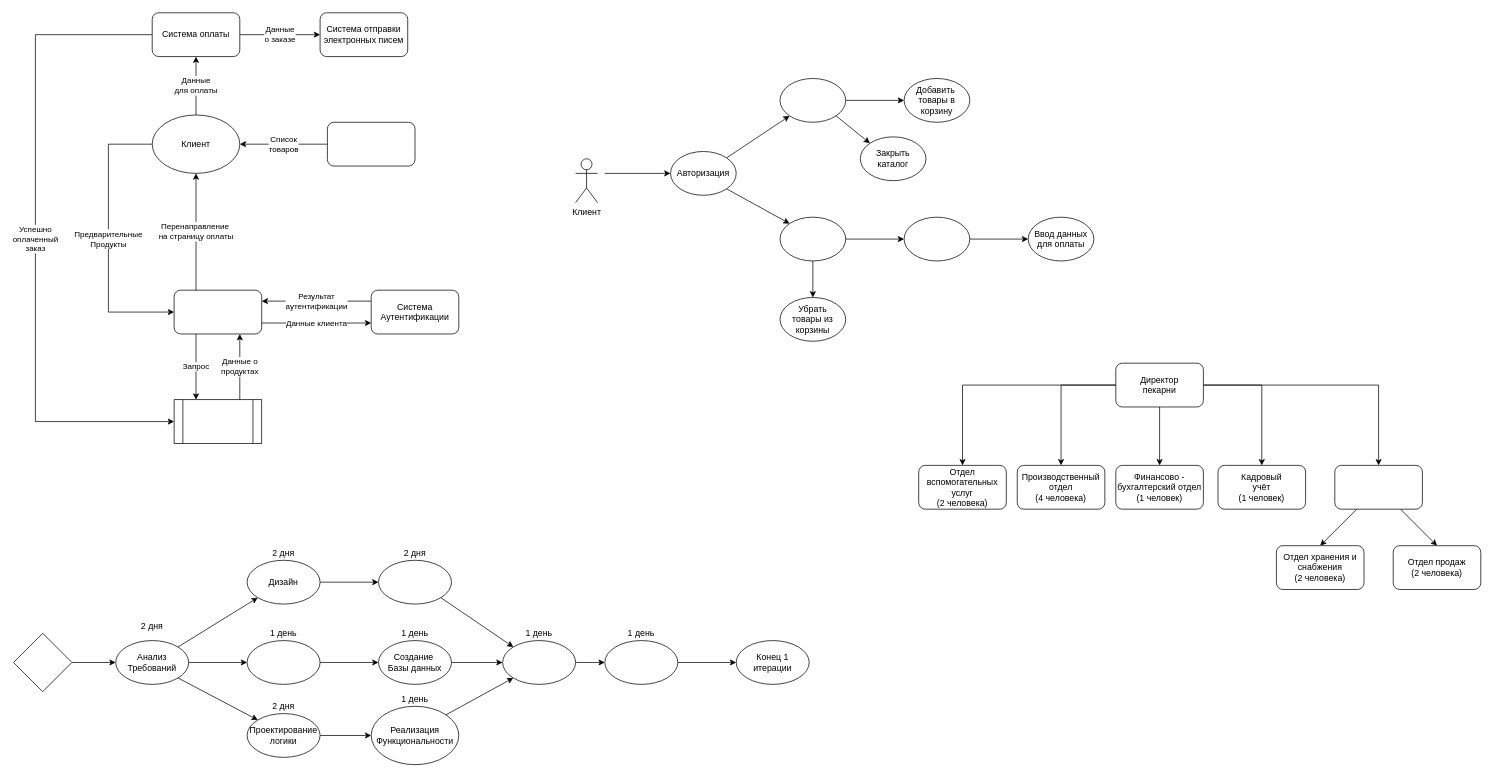
Some shapes in this 1494 by 777 pixel diagram are drawn without their labels. The shapes that lost their labels are listed below. From the top down, each one's box as (x1, y1, x2, y2) in pixels, then its label:
(779, 78, 846, 122): Открыть каталог
(327, 122, 415, 166): Каталог
(779, 216, 846, 261): Открыть корзину
(903, 216, 970, 261): Оформить заказ
(173, 289, 262, 334): Система обработки заказов
(173, 399, 262, 443): База Данных
(1334, 465, 1422, 509): Коммерческий отдел
(378, 560, 452, 604): Реализация формы ввода данных
(13, 633, 72, 692): Начало
(246, 640, 320, 684): Проектирование данных
(502, 640, 576, 684): Тестирование 1 модуля
(604, 640, 678, 684): Презентация результата
